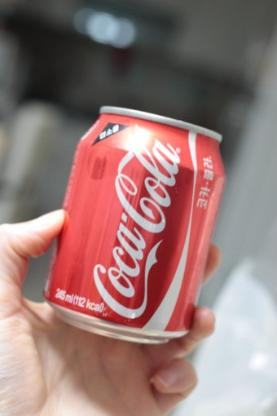Can: (40, 103, 230, 349)
